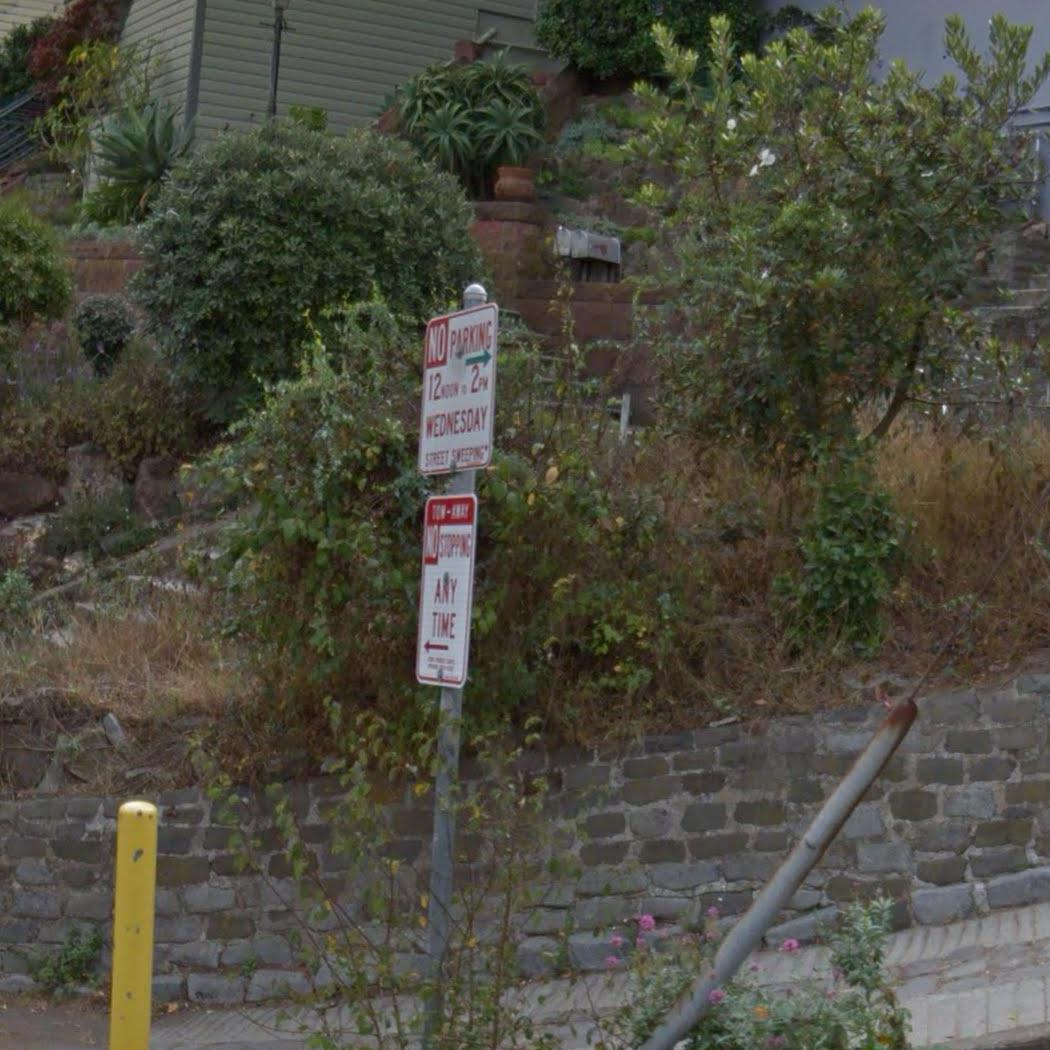No Parking: (411, 308, 500, 479)
No Parking Anytime: (413, 492, 485, 692)
